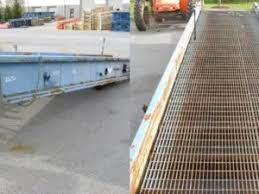Yard Ramp: (125, 1, 258, 194)
